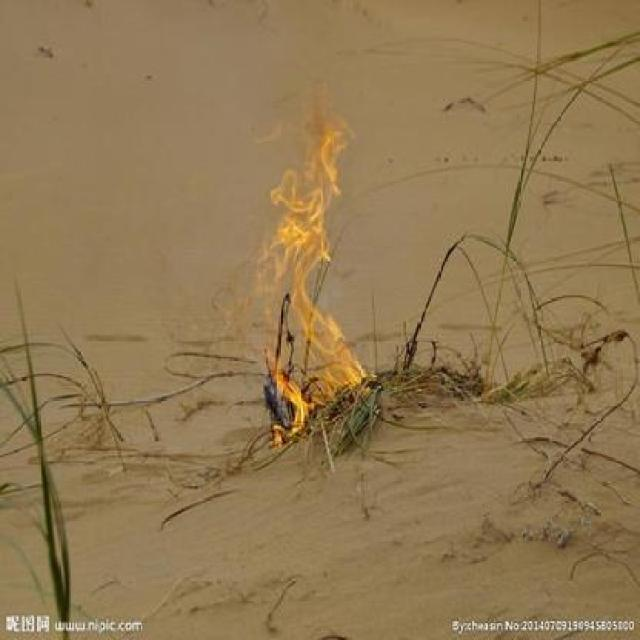Fire: (264, 100, 372, 457)
